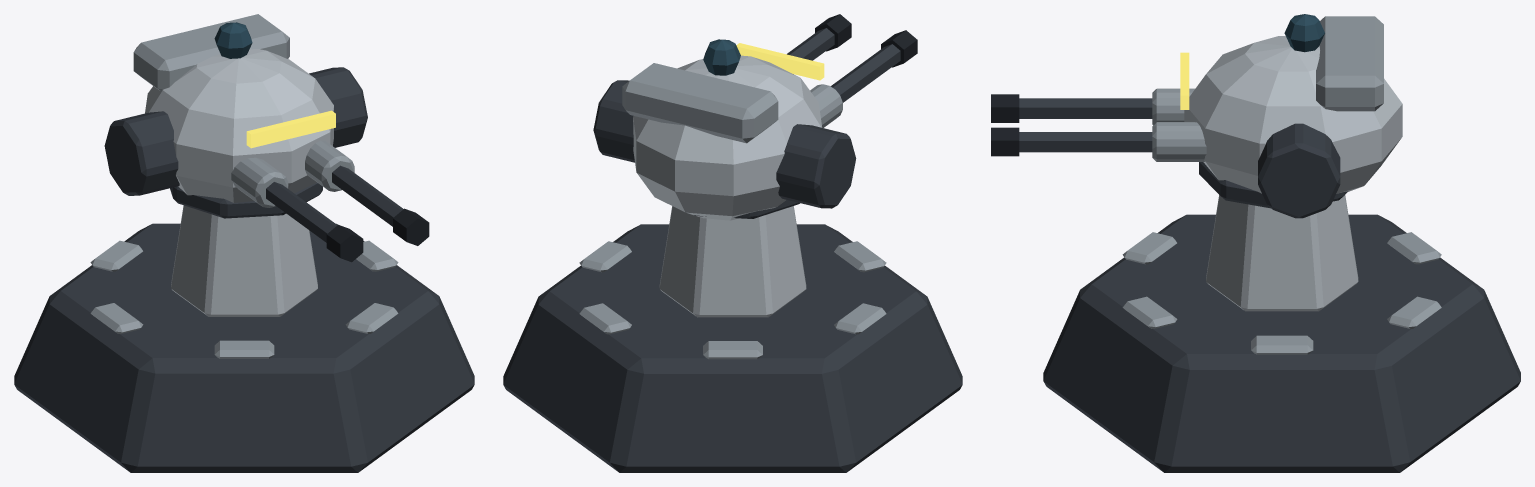
The model's file is exo-pointdefense.glb.
3 renders of one model, left to right at view 1: azimuth 30°, elevation 25°; view 2: azimuth 150°, elevation 25°; view 3: azimuth 270°, elevation 25°, orthographic. The views are drawn at different scales.
Parts seen in each view (by area): view 1: body, head; view 2: body, head; view 3: body, head.
Boxes of the visible parts, x1,y1,x2,y2 form: body: [14, 182, 474, 472]; head: [104, 14, 429, 262]; body: [503, 200, 962, 472]; head: [593, 14, 917, 220]; body: [1043, 162, 1520, 472]; head: [991, 14, 1402, 218].
Size of the model in its own units: 3.75 by 3.63 by 4.69.
